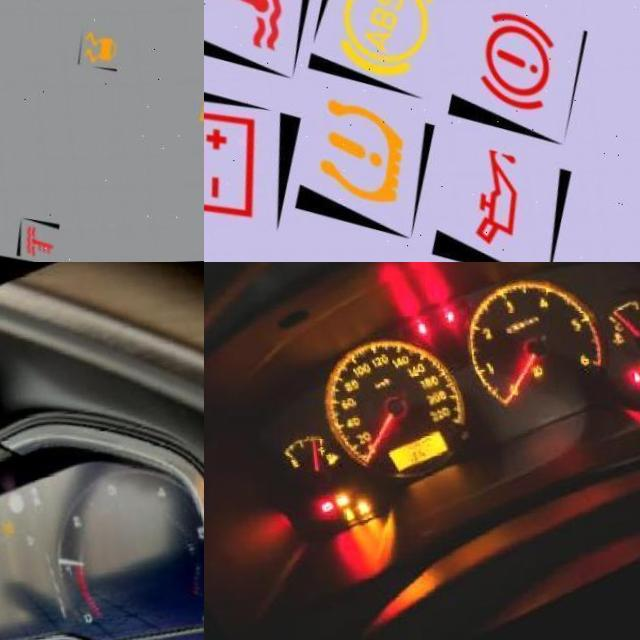High Engine Coolant Temperature: (602, 322, 622, 342)
Seat Belt: (622, 362, 637, 378)
